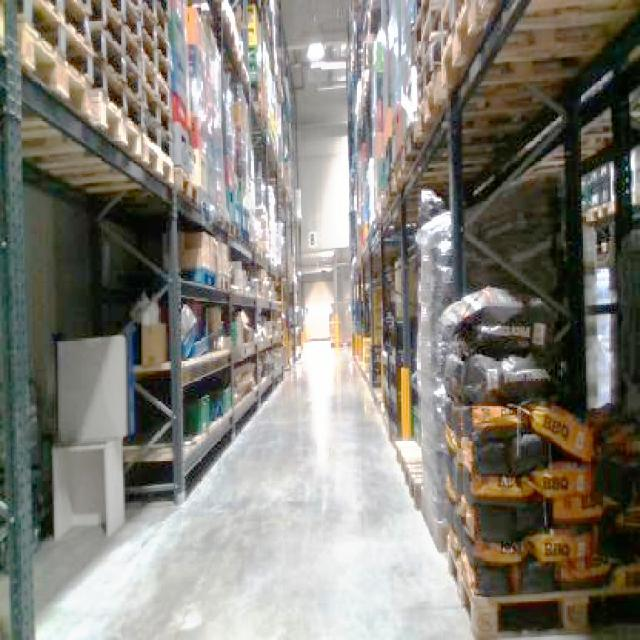ground: (0, 335, 638, 638)
pallet: (346, 0, 638, 638), (440, 397, 638, 638)
